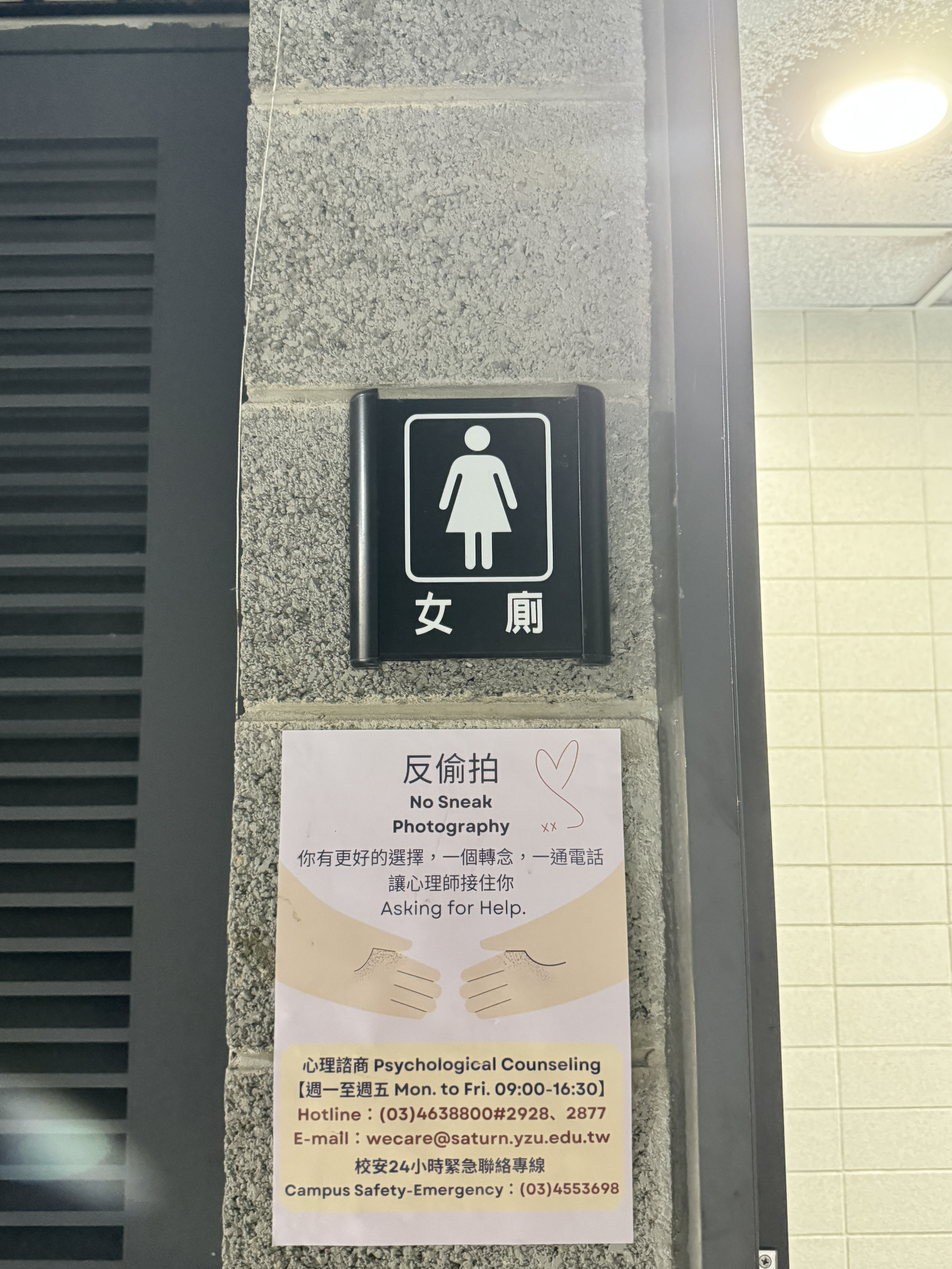toilet_sign: (306, 361, 655, 696), (337, 384, 616, 664)
